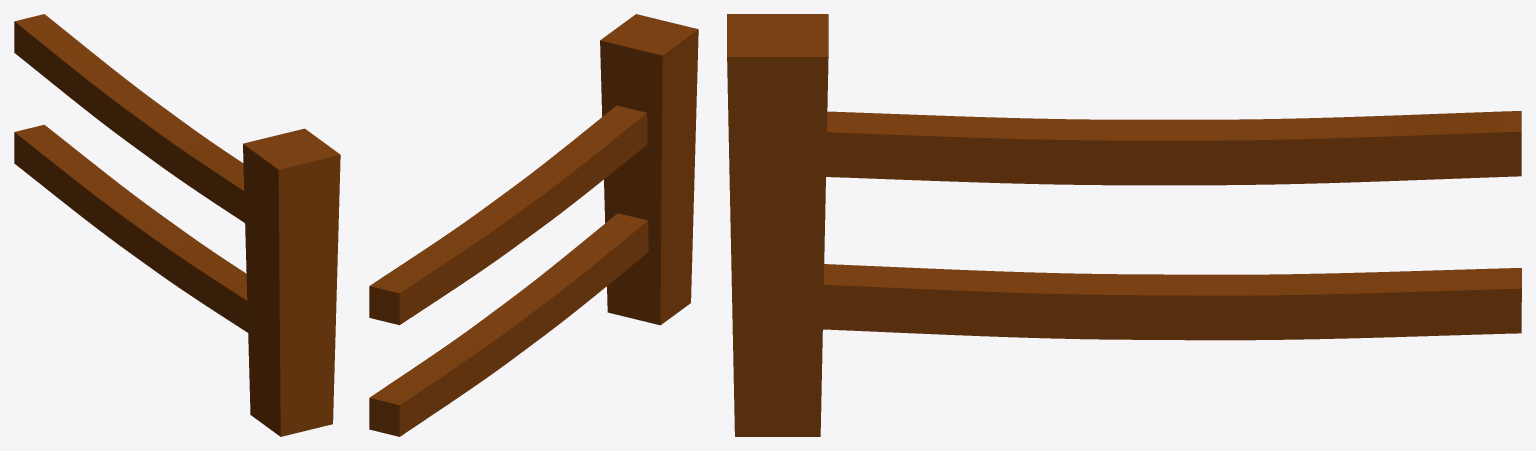
Rendered from Fence.fbx.
3 renders of one model, left to right at view 1: azimuth 30°, elevation 25°; view 2: azimuth 150°, elevation 25°; view 3: azimuth 270°, elevation 25°, orthographic. The views are drawn at different scales.
Parts seen in each view (by area): view 1: Fence; view 2: Fence; view 3: Fence.
Part boxes in pixels (x1,y1,x2,y2): Fence: (14, 14, 340, 436); Fence: (369, 14, 698, 436); Fence: (727, 14, 1521, 436).
Bounding box in the file's own units: 73.51 × 306 × 576.
